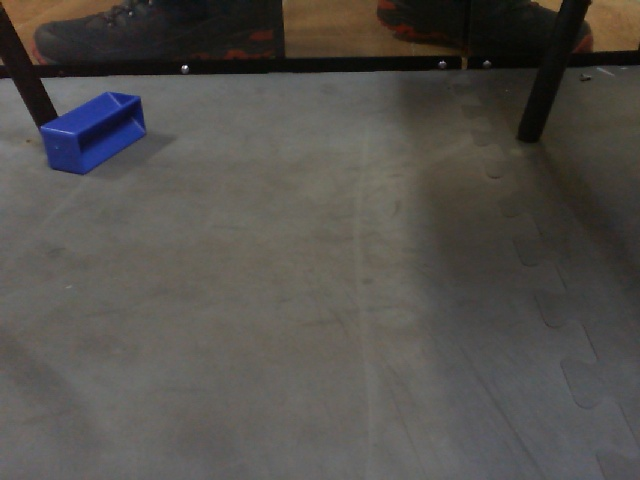BlueSample: (36, 91, 146, 175)
